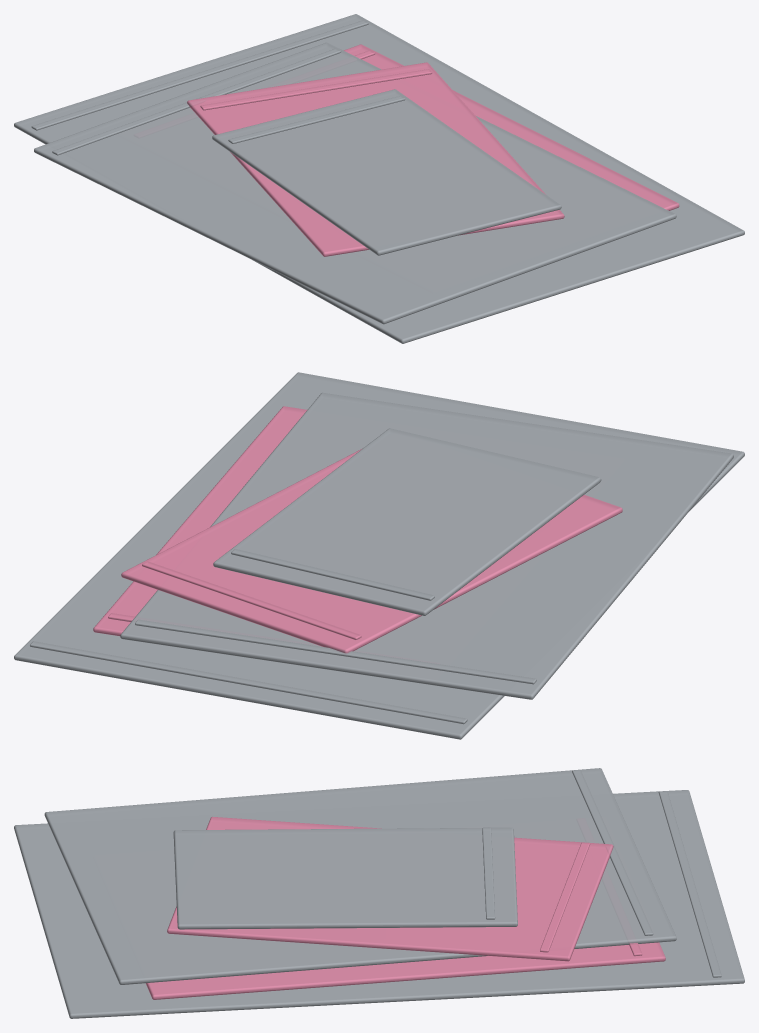
Rendered from esd-bags.glb.
The picture shows the model from 3 angles, top to bottom: view 1: azimuth 30°, elevation 25°; view 2: azimuth 150°, elevation 25°; view 3: azimuth 270°, elevation 25°; orthographic projection. The views are drawn at different scales.
Visible parts, largest first — view 1: esd_bag_3, esd_bag_5, esd_bag_1, esd_bag_4, esd_bag_2, esd_bag_1_zip, esd_bag_3_zip, esd_bag_4_zip, esd_bag_5_zip; view 2: esd_bag_3, esd_bag_5, esd_bag_1, esd_bag_4, esd_bag_2, esd_bag_1_zip, esd_bag_3_zip, esd_bag_4_zip, esd_bag_5_zip; view 3: esd_bag_3, esd_bag_5, esd_bag_1, esd_bag_4, esd_bag_2, esd_bag_1_zip, esd_bag_3_zip, esd_bag_4_zip, esd_bag_5_zip.
Boxes of the visible parts, x1,y1,x2,y2 form: esd_bag_3: [34, 42, 676, 324]; esd_bag_5: [212, 89, 561, 255]; esd_bag_1: [14, 14, 744, 343]; esd_bag_4: [187, 62, 564, 256]; esd_bag_2: [344, 44, 679, 210]; esd_bag_1_zip: [31, 20, 368, 130]; esd_bag_3_zip: [52, 48, 341, 155]; esd_bag_4_zip: [200, 69, 432, 110]; esd_bag_5_zip: [228, 95, 405, 143]; esd_bag_3: [120, 392, 733, 699]; esd_bag_5: [213, 428, 601, 615]; esd_bag_1: [14, 372, 744, 739]; esd_bag_4: [121, 448, 622, 653]; esd_bag_2: [93, 406, 307, 636]; esd_bag_1_zip: [30, 641, 467, 724]; esd_bag_3_zip: [135, 619, 536, 684]; esd_bag_4_zip: [142, 561, 361, 639]; esd_bag_5_zip: [231, 549, 434, 600]; esd_bag_3: [44, 768, 676, 984]; esd_bag_5: [173, 827, 517, 929]; esd_bag_1: [14, 790, 744, 1018]; esd_bag_4: [167, 816, 613, 961]; esd_bag_2: [146, 942, 665, 999]; esd_bag_1_zip: [658, 791, 721, 977]; esd_bag_3_zip: [572, 769, 653, 935]; esd_bag_4_zip: [540, 842, 590, 952]; esd_bag_5_zip: [482, 827, 495, 919].
Size of the model in its own units: 0.2468 by 0.014 by 0.3221.
